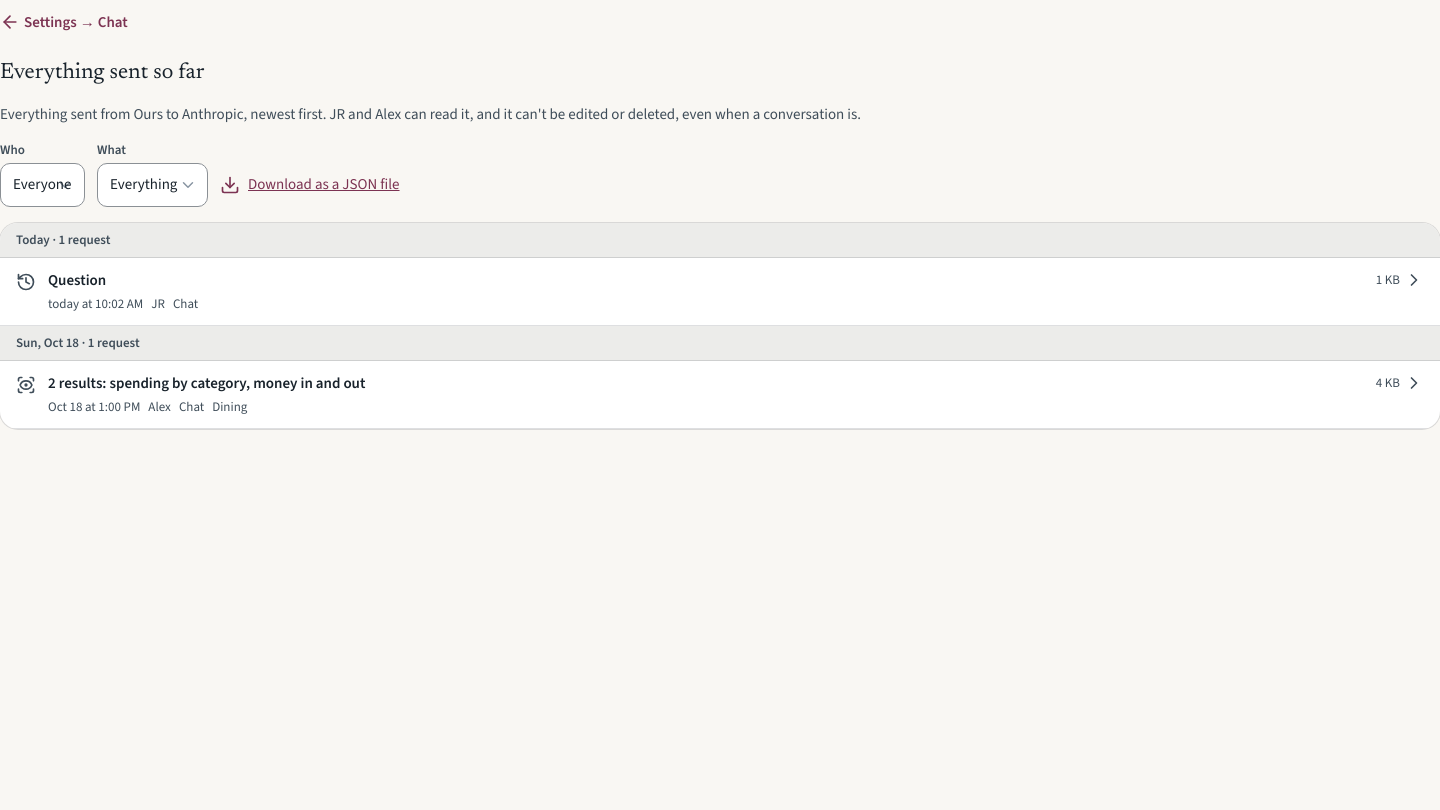
it: Everything sent so far › reads the list and detail fields as the server shapes them
Expected: the text "Today · 1 request" is shown, [0,223,1439,258]
Expected: the text "Dining" is shown, [212,398,247,416]
Click the button "Question today at 10:02 AM JR Chat 1 KB".
click(77, 280)  # box [0,258,1439,326]
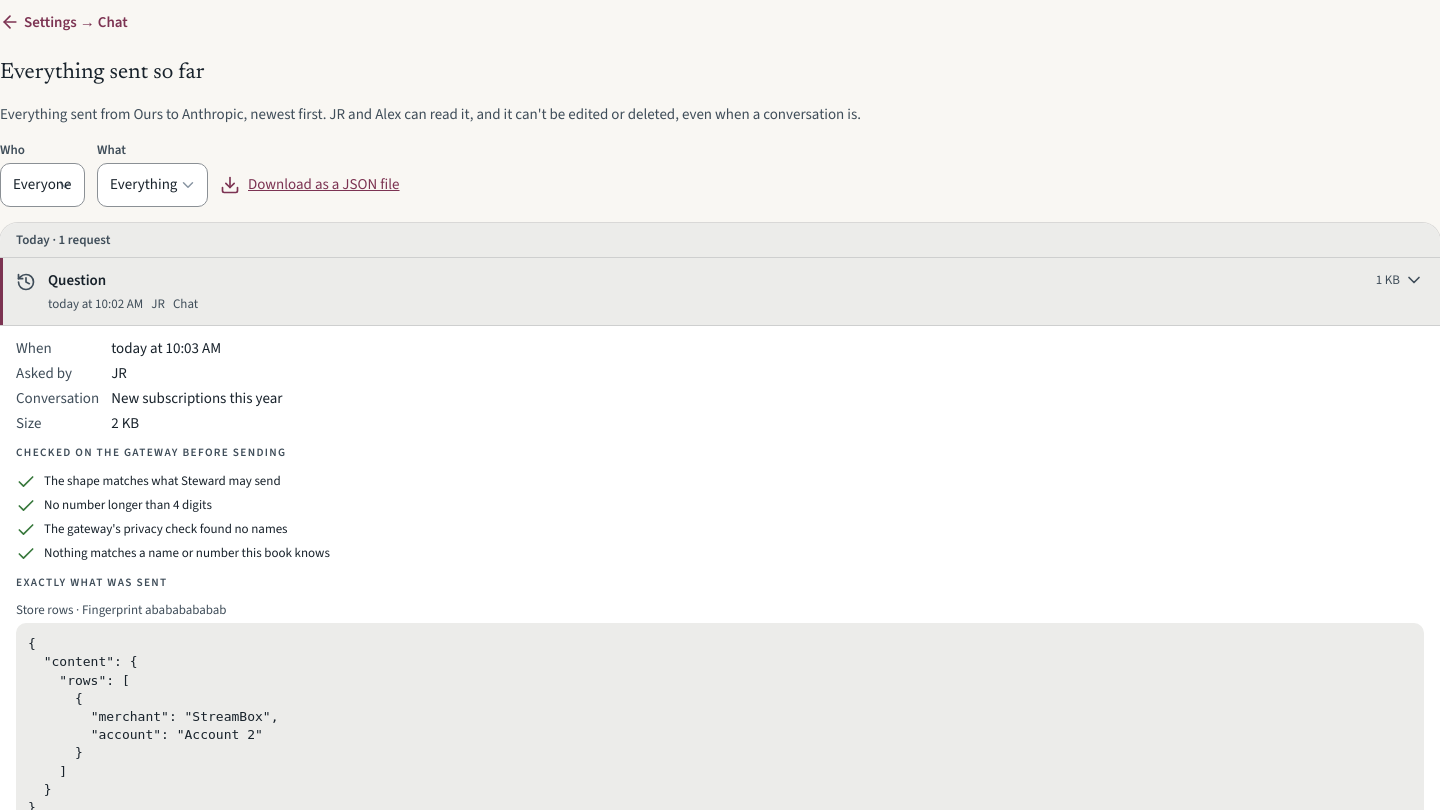
Expected: the text "Asked by" is shown, [16,363,72,383]
Expected: the list item "The gateway's privacy check found no names" is shown, [16,520,288,540]
